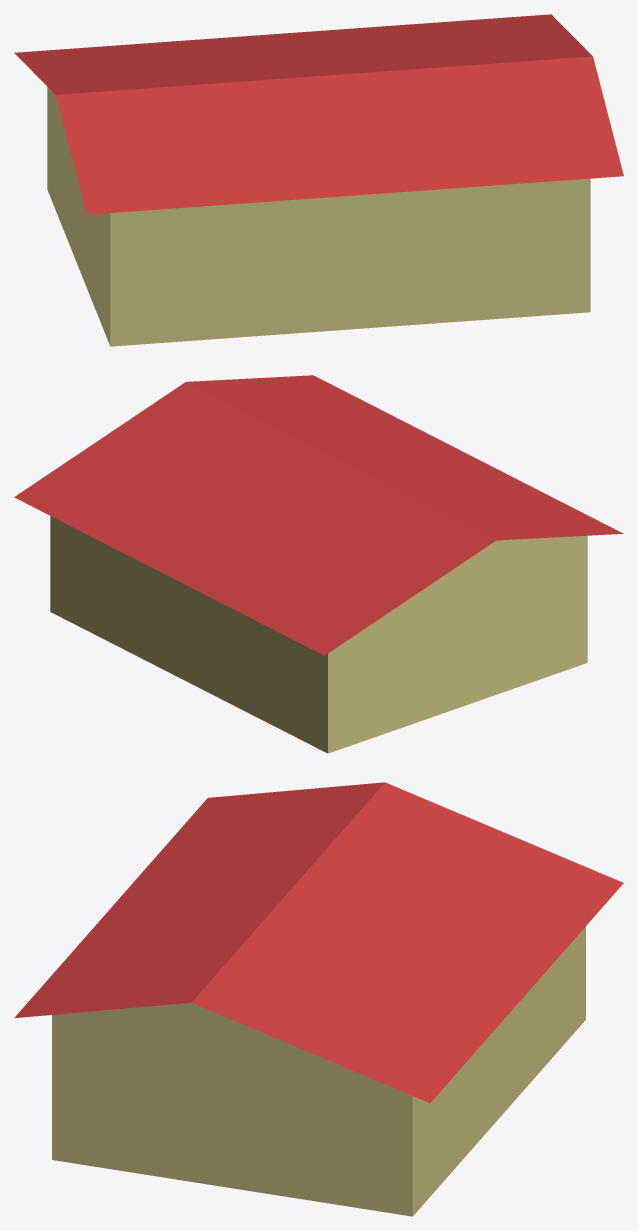
3 renders of one model, top to bottom at view 1: azimuth 30°, elevation 25°; view 2: azimuth 150°, elevation 25°; view 3: azimuth 270°, elevation 25°, orthographic. The views are drawn at different scales.
Bounding box in the file's own units: 34.35 × 30.99 × 10.79.
